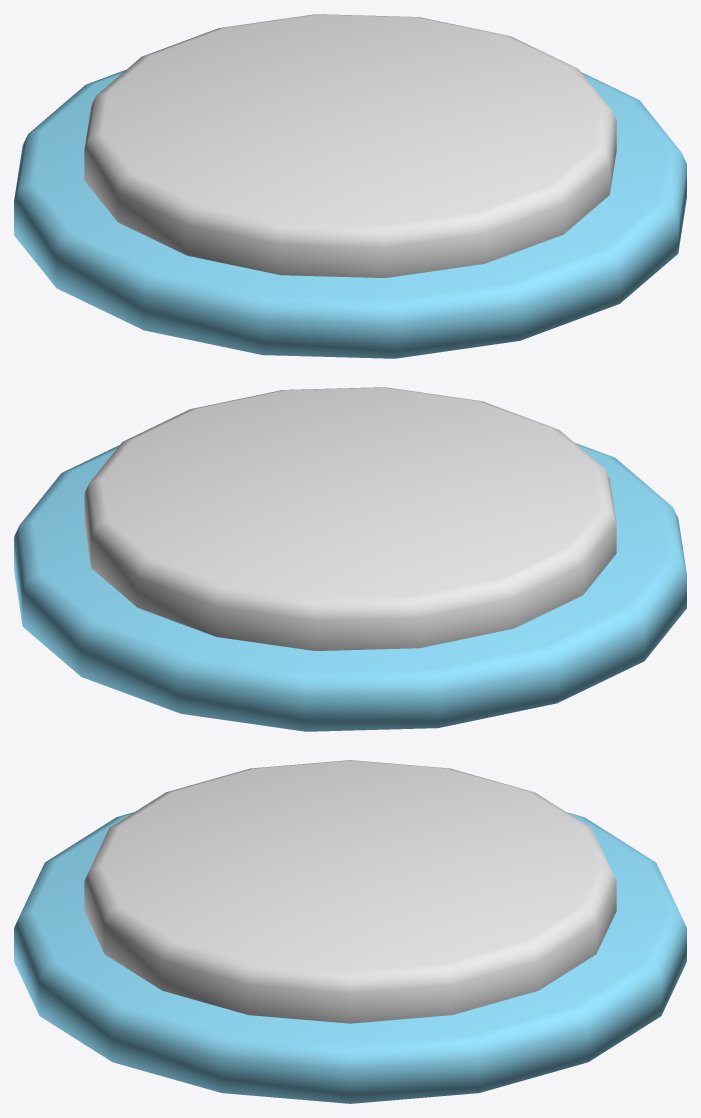
Rendered from Button.fbx.
3 views of the same model, one above another, from view 1: azimuth 30°, elevation 25°; view 2: azimuth 150°, elevation 25°; view 3: azimuth 270°, elevation 25° (orthographic).
Parts seen in each view (by area): view 1: buttonup, Button; view 2: buttonup, Button; view 3: buttonup, Button.
Part boxes in pixels (box(x1,y1,x2,y2)): buttonup: box(84, 14, 616, 277); Button: box(14, 70, 686, 358); buttonup: box(84, 387, 616, 650); Button: box(14, 443, 686, 731); buttonup: box(84, 760, 616, 1023); Button: box(14, 812, 686, 1103).
Size of the model in its own units: 147 by 23.01 by 147.
